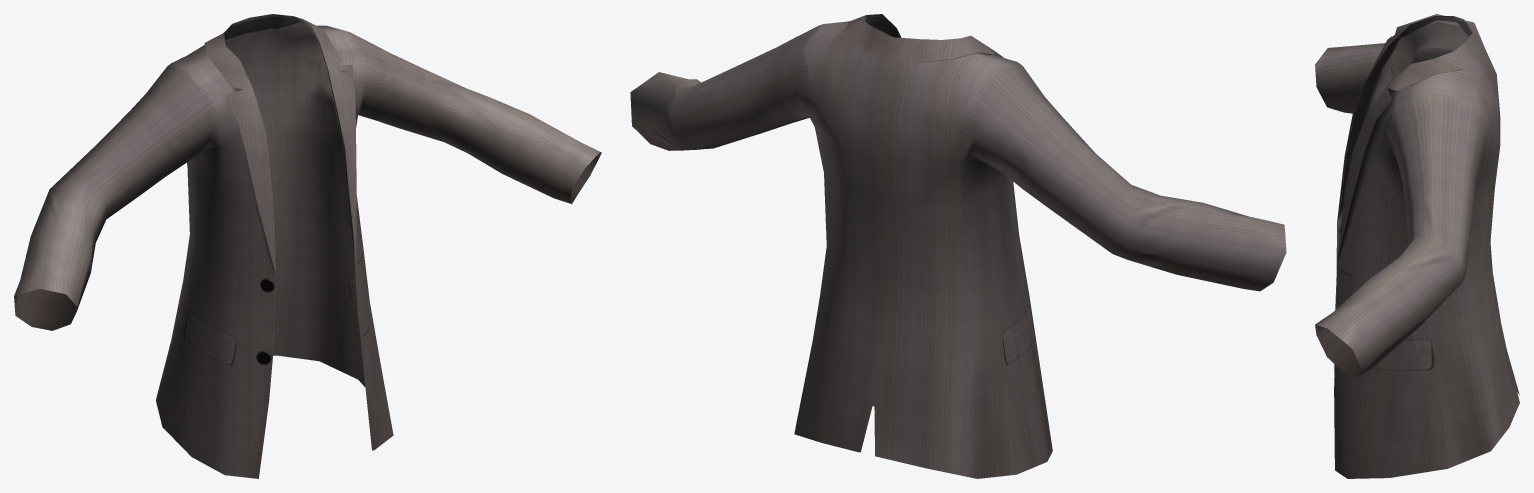
Rendered from TPSuit.fbx.
The picture shows the model from 3 angles, left to right: view 1: azimuth 30°, elevation 25°; view 2: azimuth 150°, elevation 25°; view 3: azimuth 270°, elevation 25°; orthographic projection. The views are drawn at different scales.
Visible parts, largest first — view 1: TPSuit; view 2: TPSuit; view 3: TPSuit.
Part boxes in pixels (box(x1,y1,x2,y2)): TPSuit: box(14, 14, 601, 478); TPSuit: box(630, 14, 1286, 478); TPSuit: box(1315, 14, 1519, 478).
Size of the model in its own units: 96.33 by 62.52 by 28.34.
Materials: 1 (1 with a texture image).
